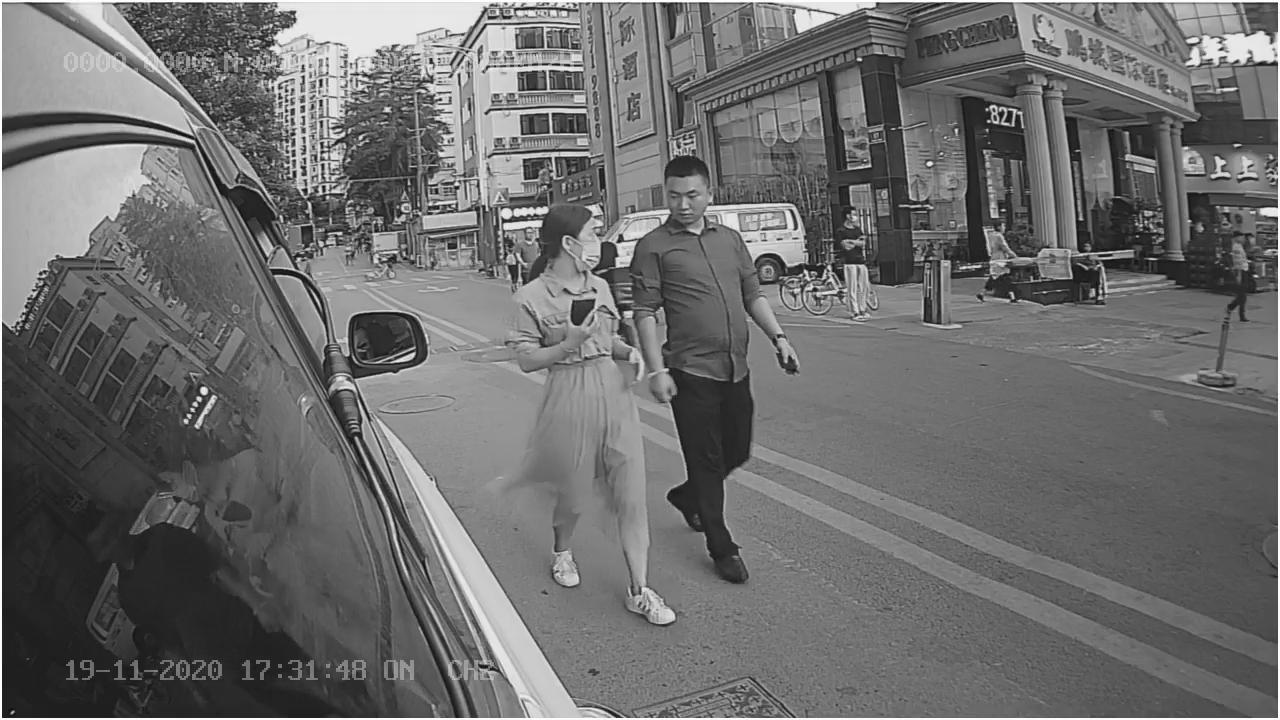person: (648, 159, 821, 478), (501, 199, 648, 505)
